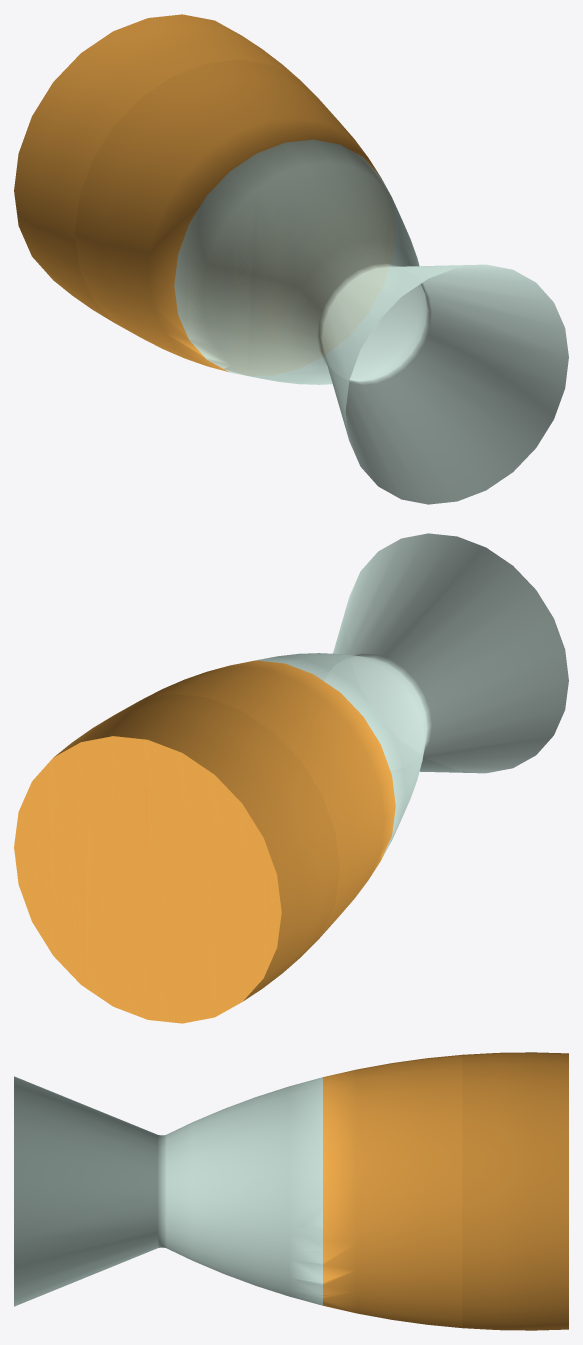
File: model_scale.obj
3 views of the same model, one above another, from view 1: azimuth 30°, elevation 25°; view 2: azimuth 150°, elevation 25°; view 3: azimuth 270°, elevation 25° (orthographic). The views are drawn at different scales.
Visible parts, largest first — view 1: mesh1_mesh1-geometry; view 2: mesh1_mesh1-geometry; view 3: mesh1_mesh1-geometry.
Part boxes in pixels (x1,y1,x2,y2): mesh1_mesh1-geometry: (14, 14, 568, 504); mesh1_mesh1-geometry: (14, 533, 568, 1023); mesh1_mesh1-geometry: (14, 1052, 568, 1330).
Bounding box in the file's own units: 0.1143 × 0.1143 × 0.2272.
